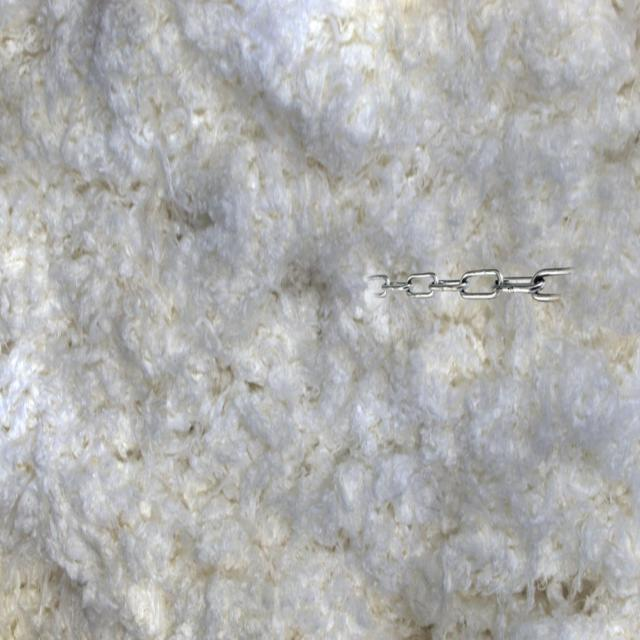dust: (351, 201, 592, 410)
